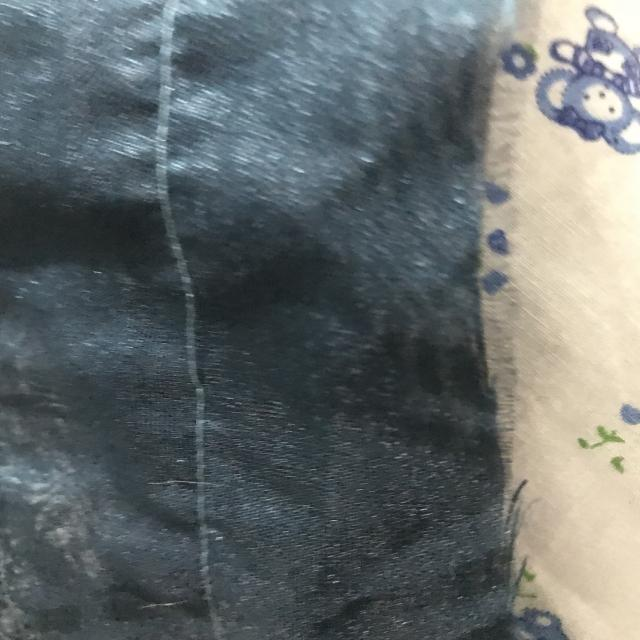skip: (166, 290, 247, 404)
